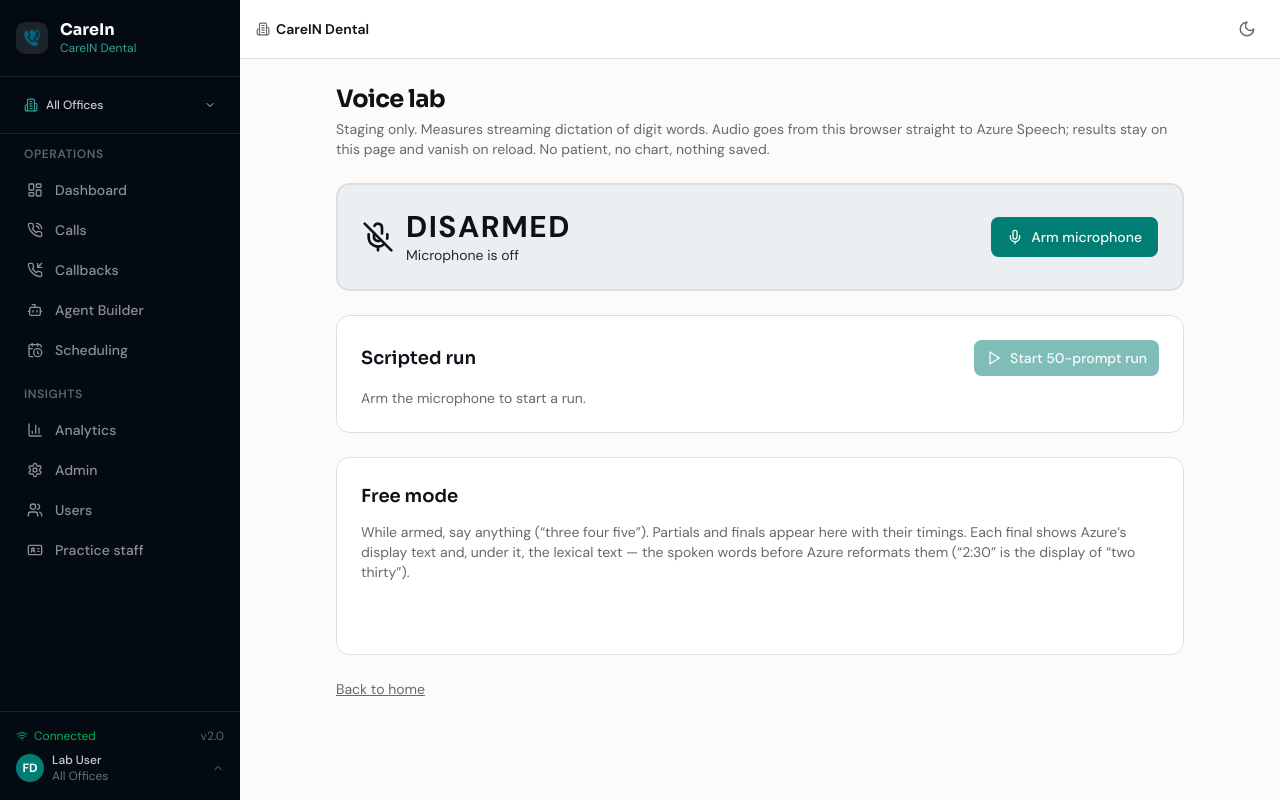
it: the scripted run and free mode › an empty final (noise) is not scored; Skip records a miss
This screenshot has width=1280, height=800.
Click the button with test id "voicelab-arm": (1075, 237) top-left (991, 217), bottom-right (1158, 257)
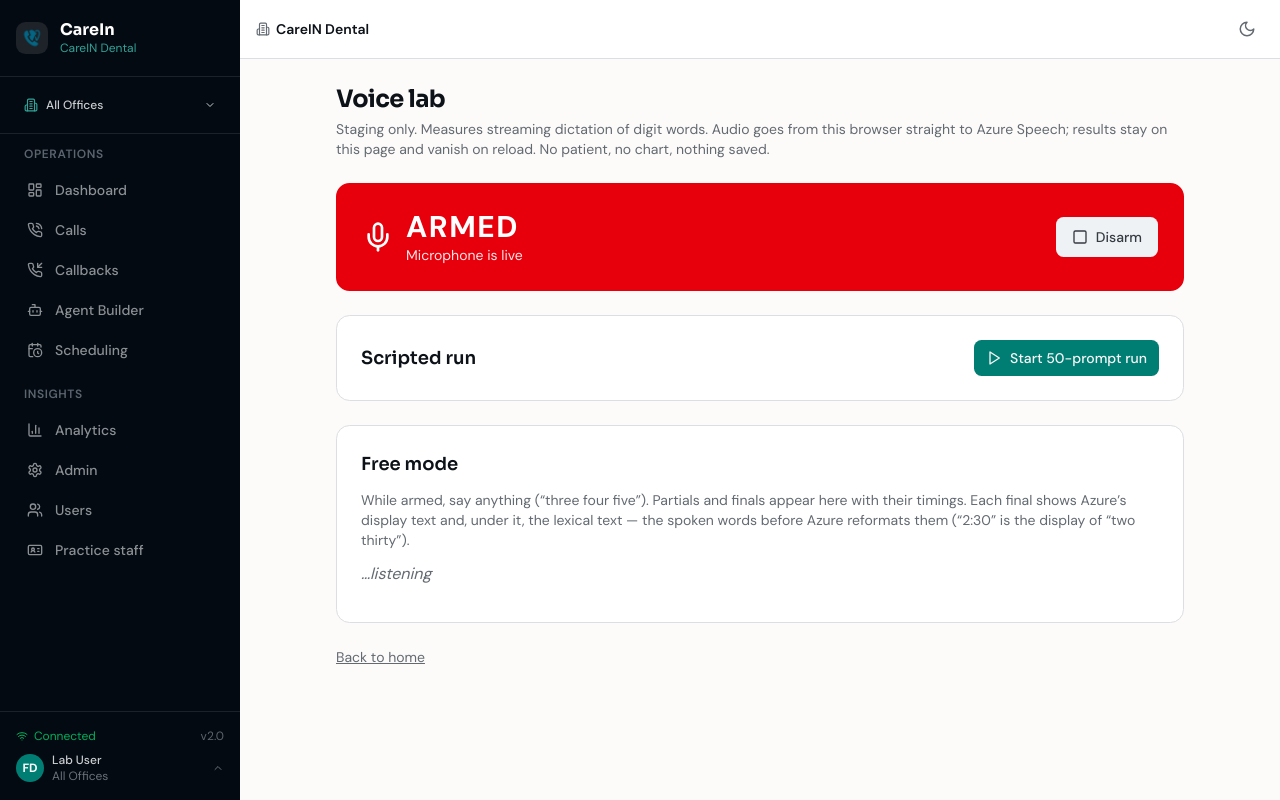
Expected: the message with test id "voicelab-arm-state" has attribute data-armed="true", top-left (336, 183), bottom-right (1184, 291)
Click the button with test id "voicelab-start-run": (1066, 358) top-left (974, 340), bottom-right (1159, 376)
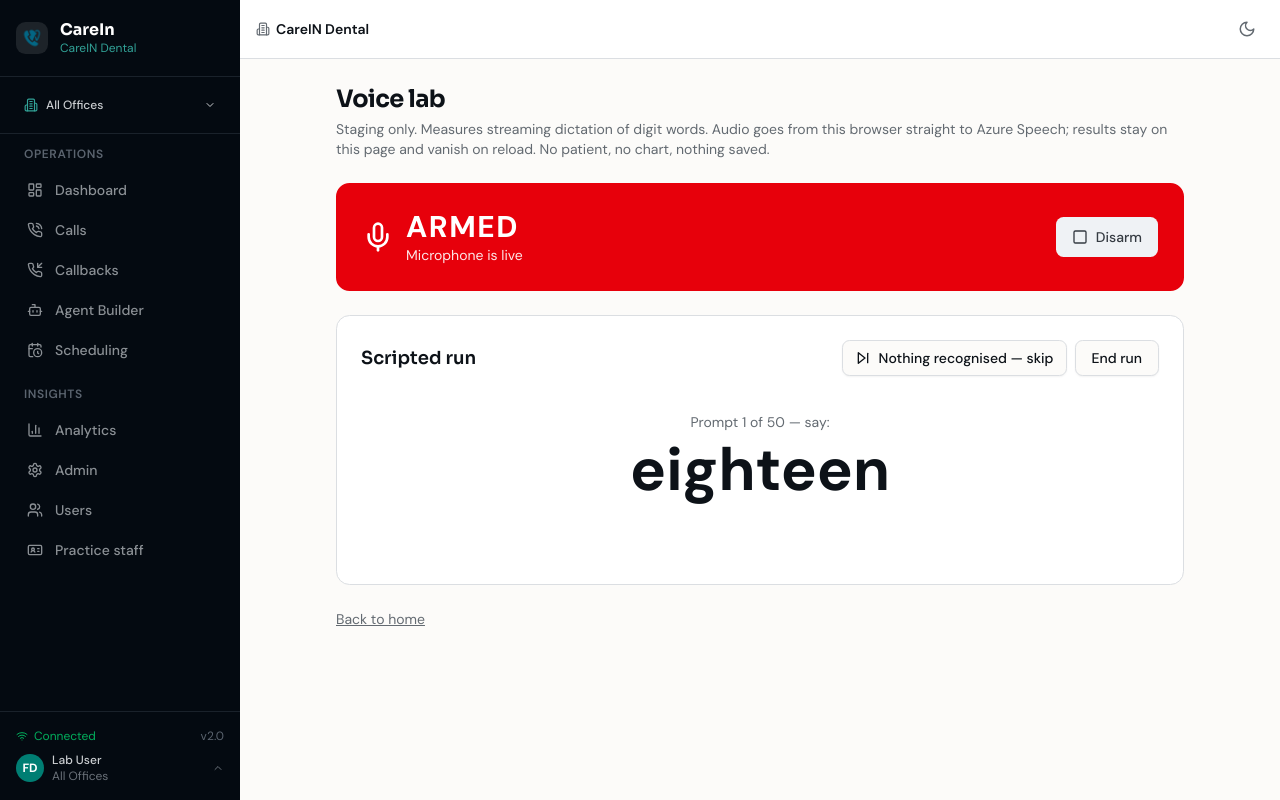
Expected: the text with test id "voicelab-progress" shows "Prompt 1 of 50", top-left (690, 413), bottom-right (830, 431)
Click the button with test id "voicelab-skip": (954, 358) top-left (842, 340), bottom-right (1067, 376)
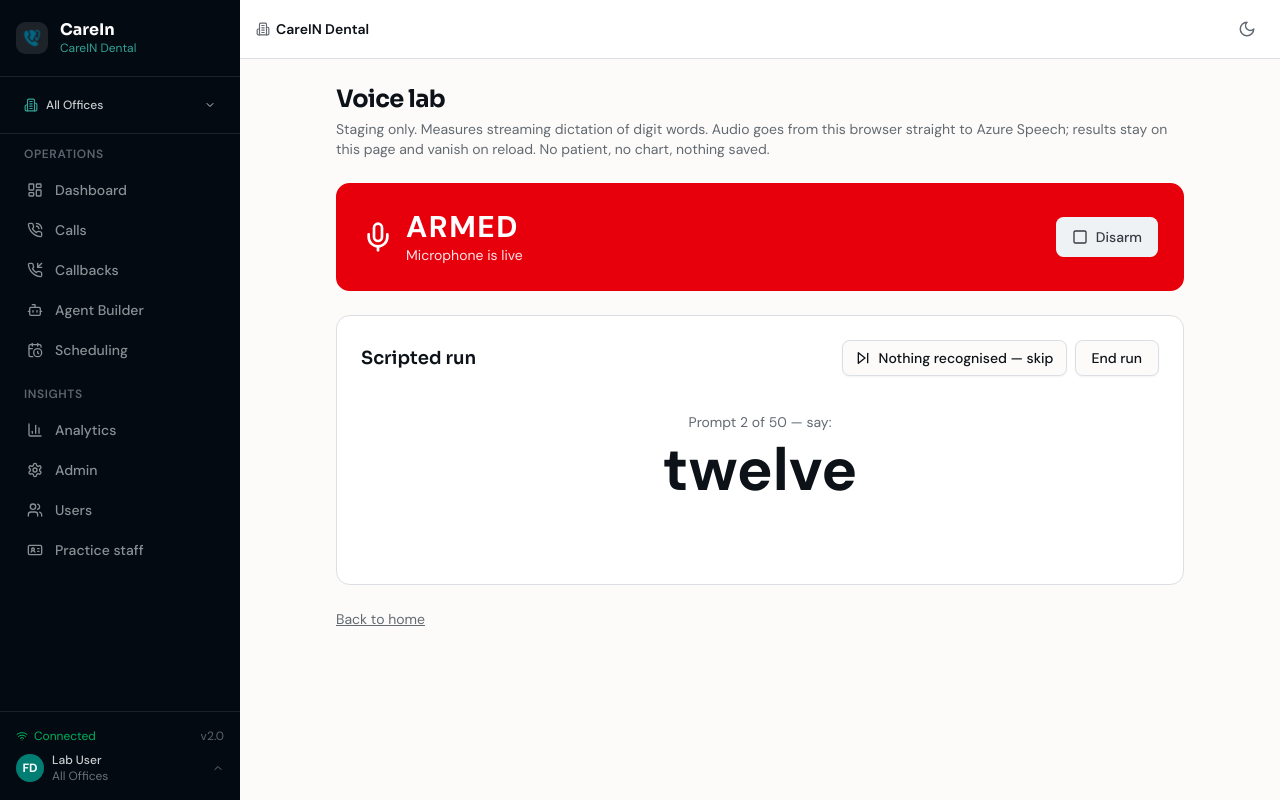
Expected: the text with test id "voicelab-progress" shows "Prompt 2 of 50", top-left (688, 413), bottom-right (832, 431)
